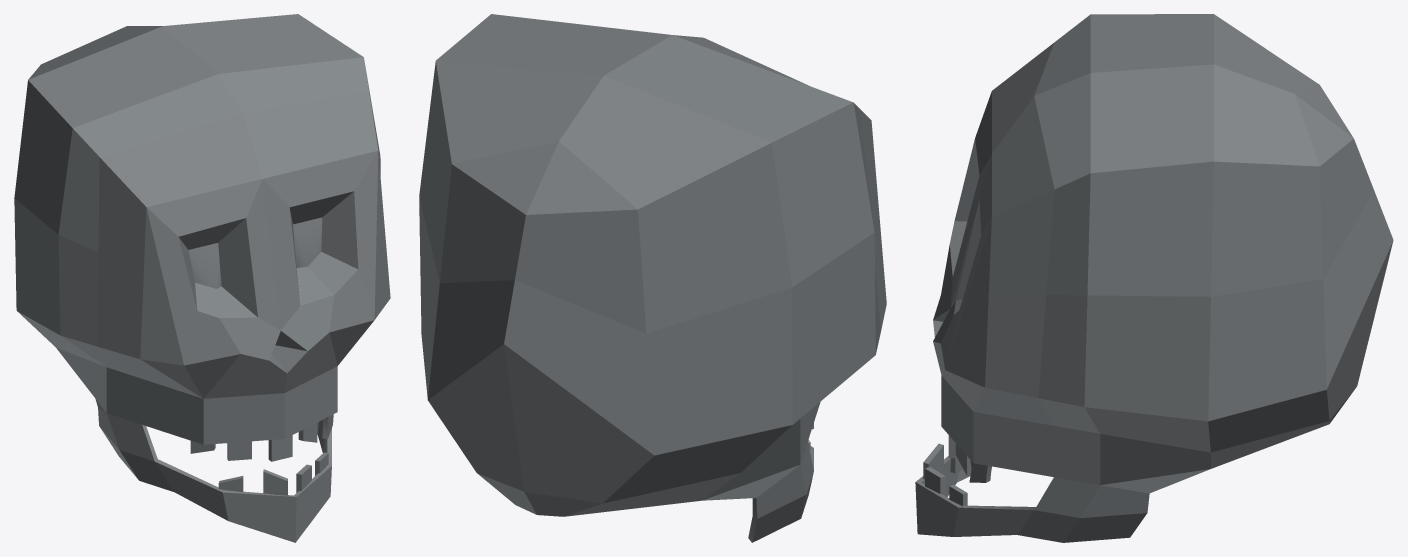
File: Skull.FBX
3 views of the same model, side by side, from view 1: azimuth 30°, elevation 25°; view 2: azimuth 150°, elevation 25°; view 3: azimuth 270°, elevation 25° (orthographic). The views are drawn at different scales.
Parts seen in each view (by area): view 1: Skull; view 2: Skull; view 3: Skull.
Part boxes in pixels (box(x1,y1,x2,y2)): Skull: box(14, 14, 390, 542); Skull: box(419, 14, 886, 542); Skull: box(915, 14, 1393, 542).
Bounding box in the file's own units: 17.25 × 21.5 × 19.83.
Materials: 1 (1 with a texture image).
